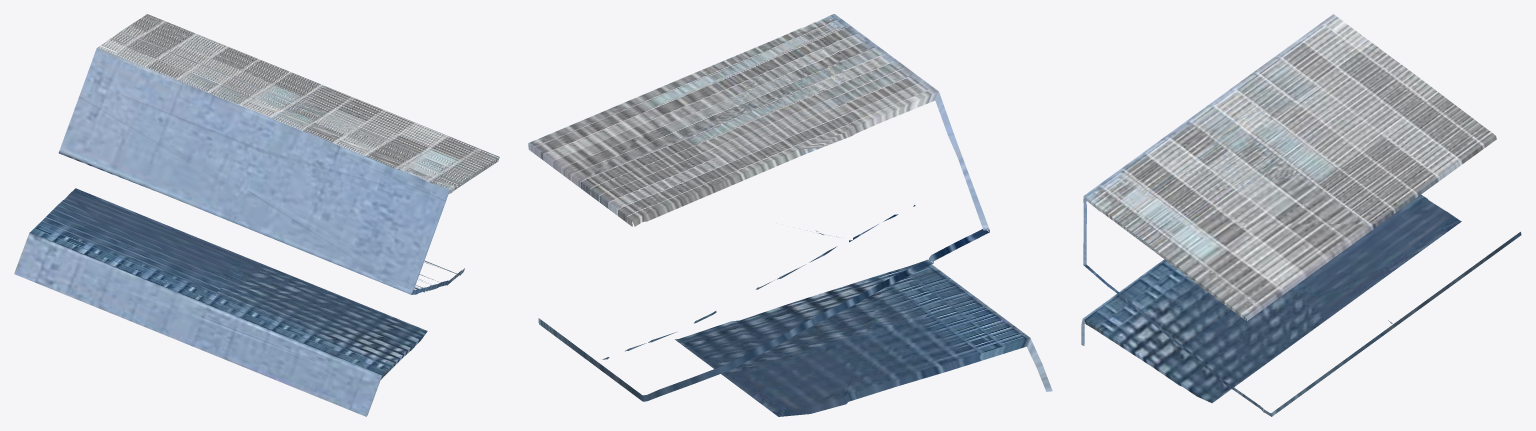
File: congresso_tile_65.glb
3 views of the same model, side by side, from view 1: azimuth 30°, elevation 25°; view 2: azimuth 150°, elevation 25°; view 3: azimuth 270°, elevation 25° (orthographic). The views are drawn at different scales.
Size of the model in its own units: 48.06 by 31.33 by 45.84.
2 materials, 2 textured.
